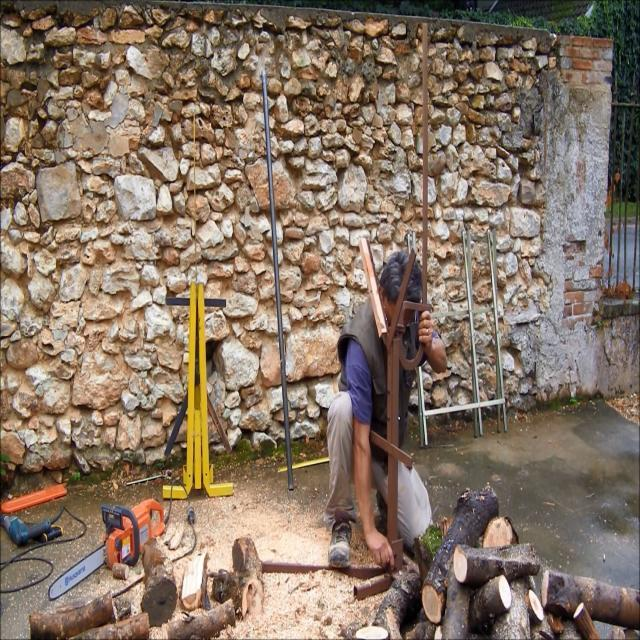Chainsaw: (40, 444, 174, 616)
